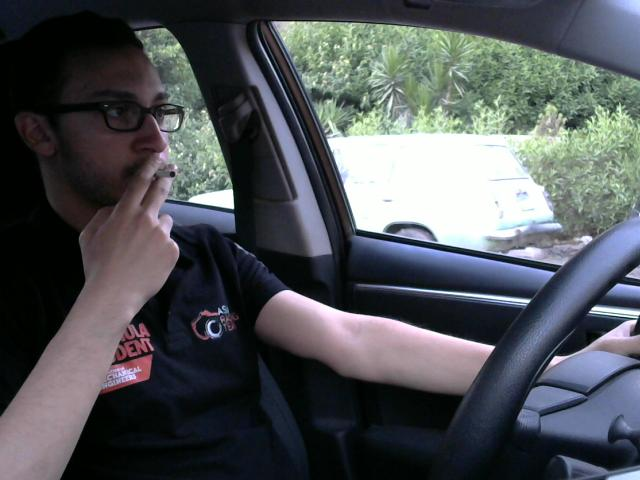Smoking: (140, 162, 183, 184)
